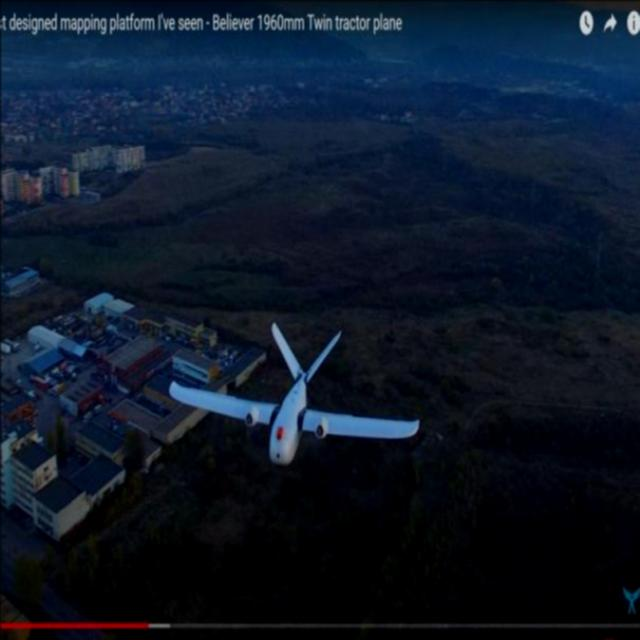plane: (166, 318, 420, 467)
